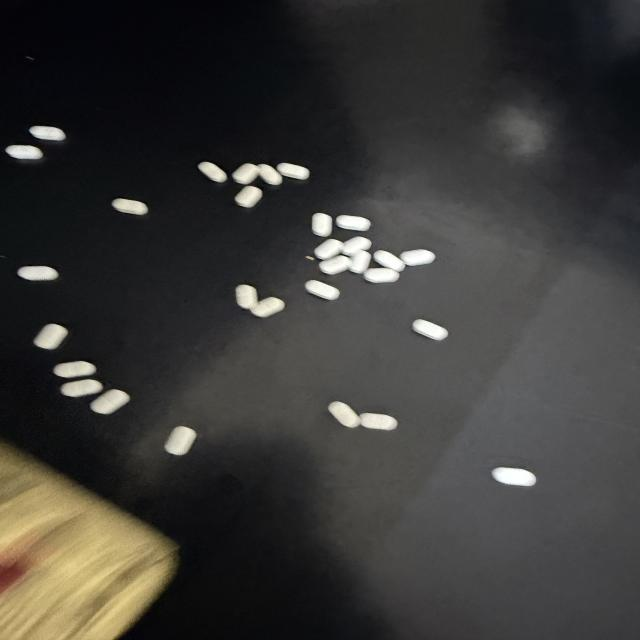pill: (90, 389, 130, 414), (165, 426, 196, 455), (34, 324, 68, 349), (492, 467, 536, 486), (329, 402, 360, 427), (61, 379, 103, 397), (413, 320, 448, 340), (53, 361, 96, 377), (374, 250, 405, 272), (251, 297, 285, 317), (306, 280, 339, 299), (17, 266, 58, 281), (112, 198, 148, 215), (198, 162, 227, 183), (319, 255, 351, 274), (360, 414, 397, 430), (235, 186, 262, 207), (276, 163, 309, 180), (400, 250, 435, 266), (336, 215, 370, 231), (315, 239, 342, 259), (232, 164, 259, 184), (236, 285, 258, 309), (364, 268, 399, 283), (342, 237, 371, 255), (29, 126, 66, 140), (6, 145, 42, 159), (258, 164, 282, 185), (349, 251, 371, 273), (312, 213, 332, 237)
